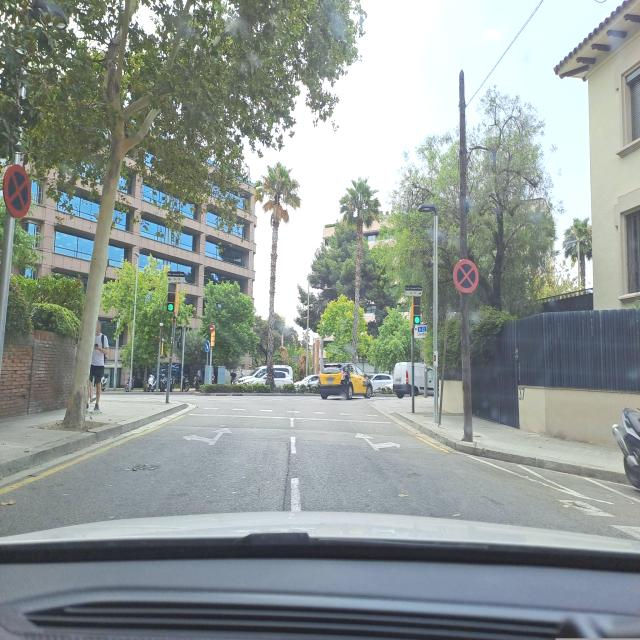car: (318, 362, 374, 399), (392, 362, 437, 398), (239, 364, 293, 386), (368, 373, 394, 395), (296, 374, 321, 393)
